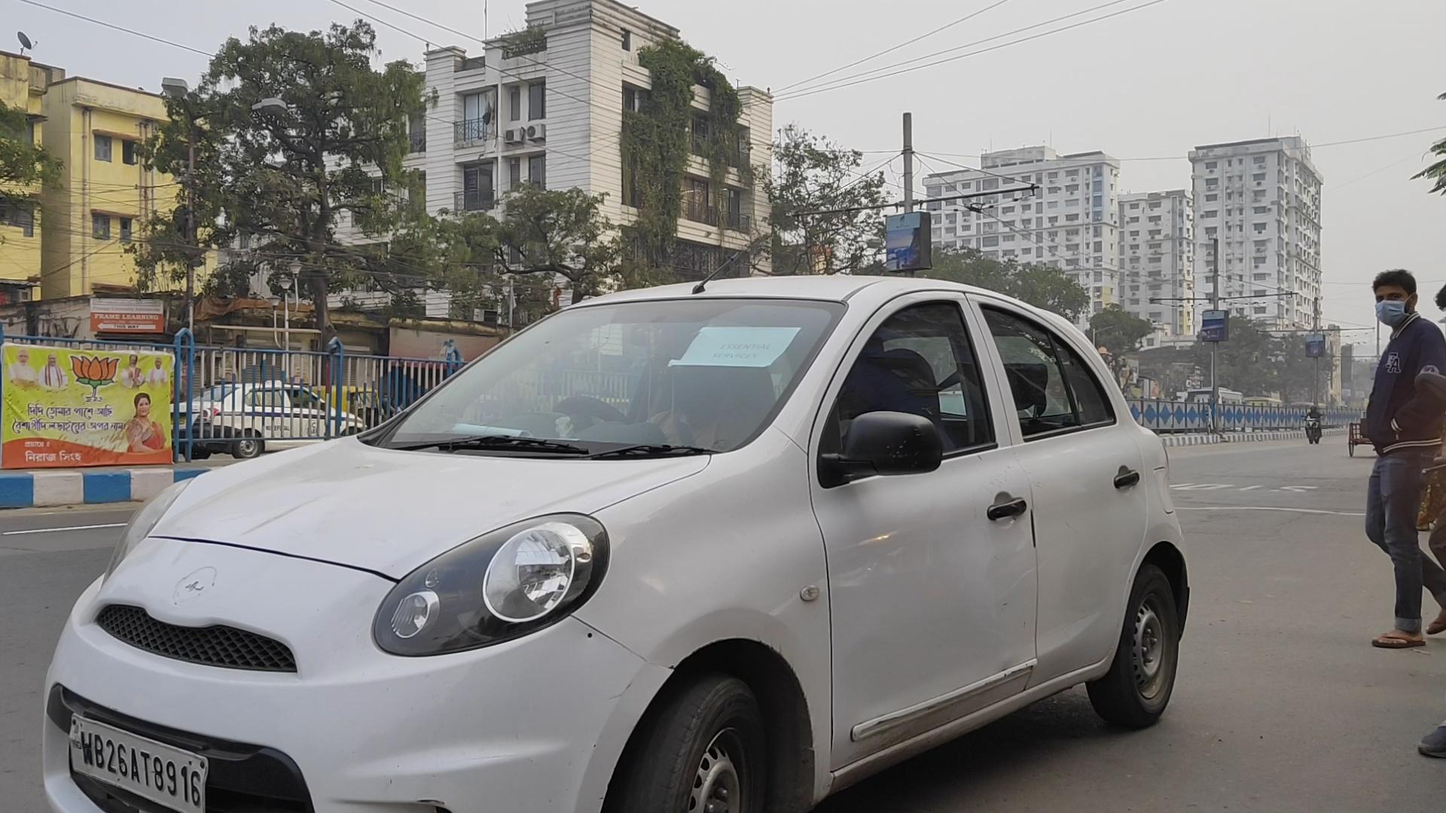bike: (1301, 406, 1324, 445)
car: (35, 273, 1189, 813)
